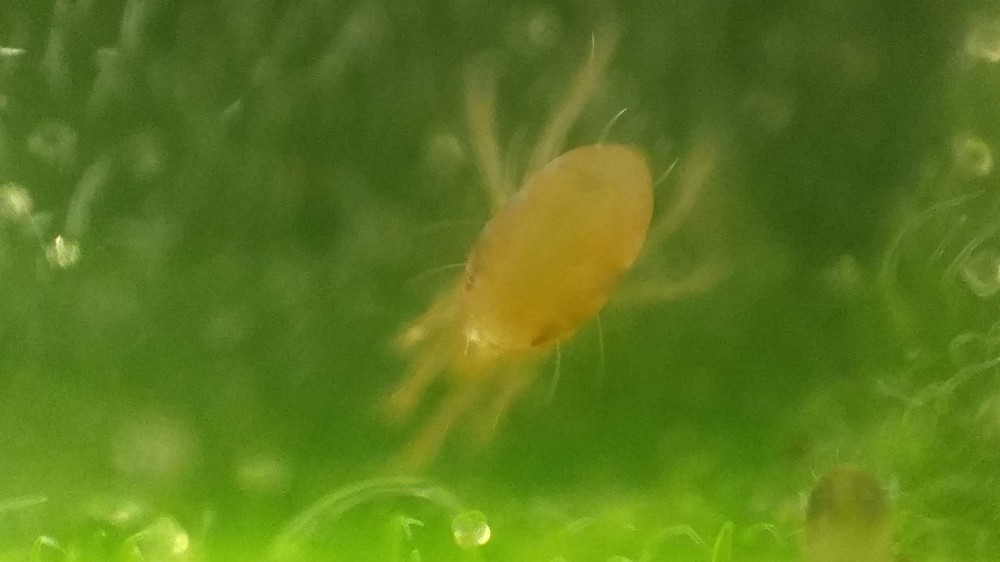Aracnido Rojo: (344, 37, 760, 488)
